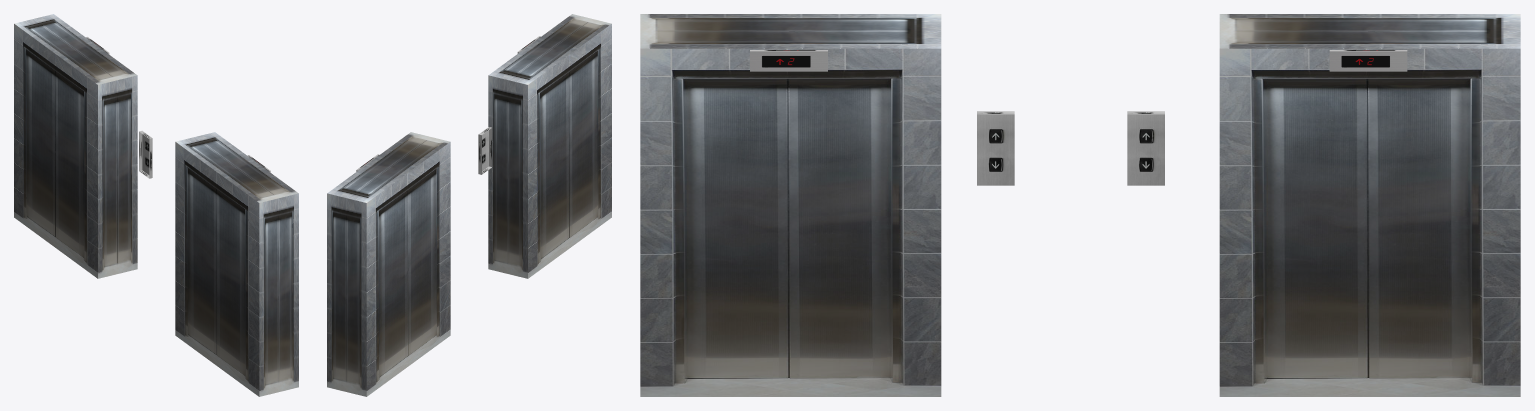
The model's file is Lift.FBX.
3 views of the same model, side by side, from view 1: azimuth 30°, elevation 25°; view 2: azimuth 150°, elevation 25°; view 3: azimuth 270°, elevation 25° (orthographic). The views are drawn at different scales.
Visible parts, largest first — view 1: Lift; view 2: Lift; view 3: Lift.
Boxes of the visible parts, x1,y1,x2,y2 form: Lift: [14, 14, 298, 396]; Lift: [327, 14, 611, 396]; Lift: [640, 14, 1520, 396].
Size of the model in its own units: 56.39 by 249 by 571.
3 materials, 3 textured.
